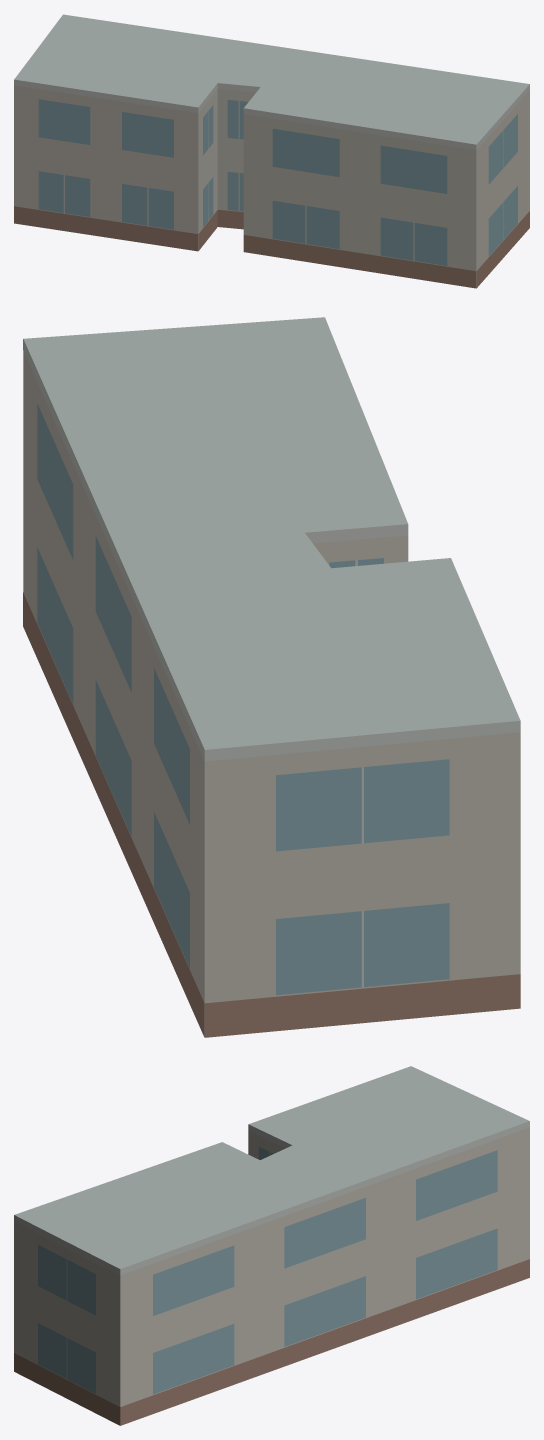
File: survey-upis-32677977.glb
3 renders of one model, top to bottom at view 1: azimuth 30°, elevation 25°; view 2: azimuth 150°, elevation 25°; view 3: azimuth 270°, elevation 25°, orthographic. The views are drawn at different scales.
Visible parts, largest first — view 1: survey-upis-32677977.tmp; view 2: survey-upis-32677977.tmp; view 3: survey-upis-32677977.tmp.
Boxes of the visible parts, x1,y1,x2,y2 form: survey-upis-32677977.tmp: (14,14,529,288); survey-upis-32677977.tmp: (23,317,520,1037); survey-upis-32677977.tmp: (14,1066,529,1425).
Size of the model in its own units: 16.97 by 6.1 by 18.21.
